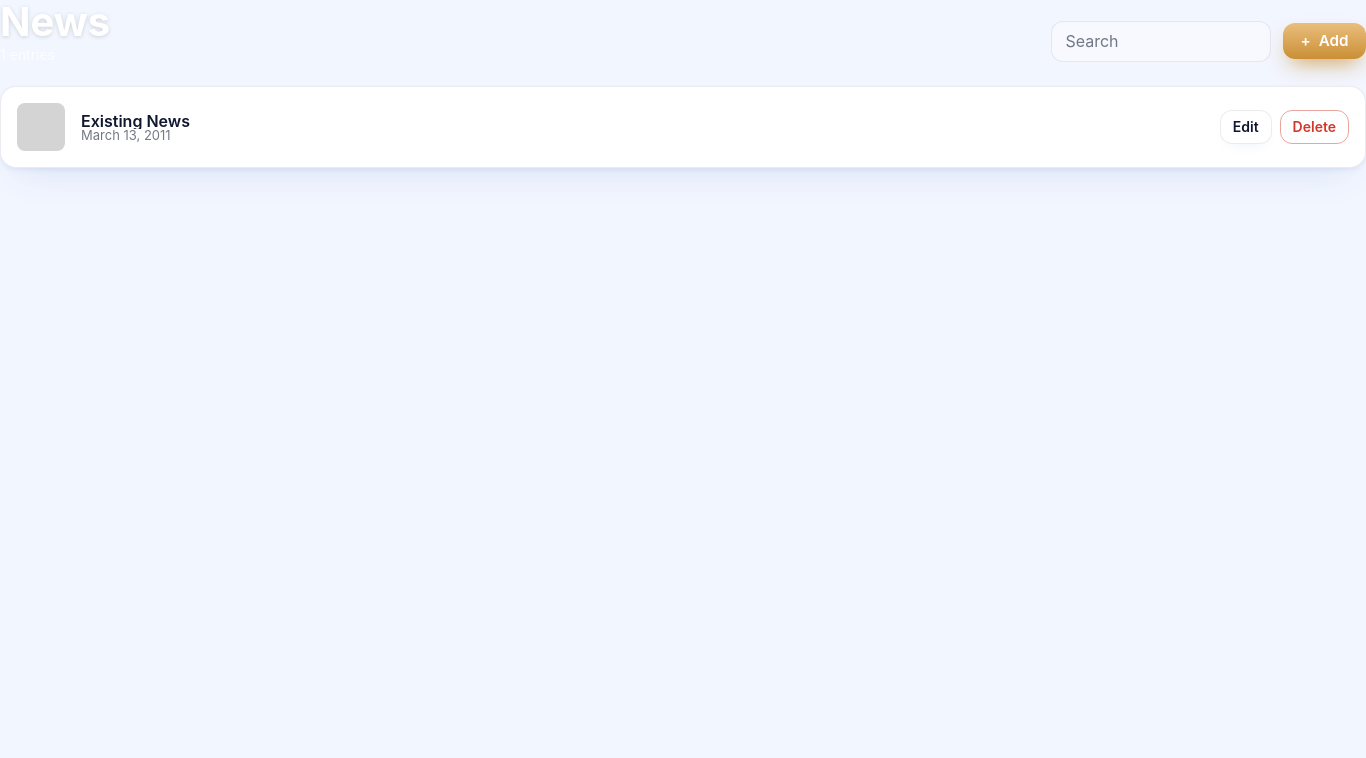
Test case: NewsEditor CRUD contract › surfaces a visible error when a save is rejected
Click the button "+ Add" at (1324, 41), box [1283,24,1365,59]
(page scrolled)
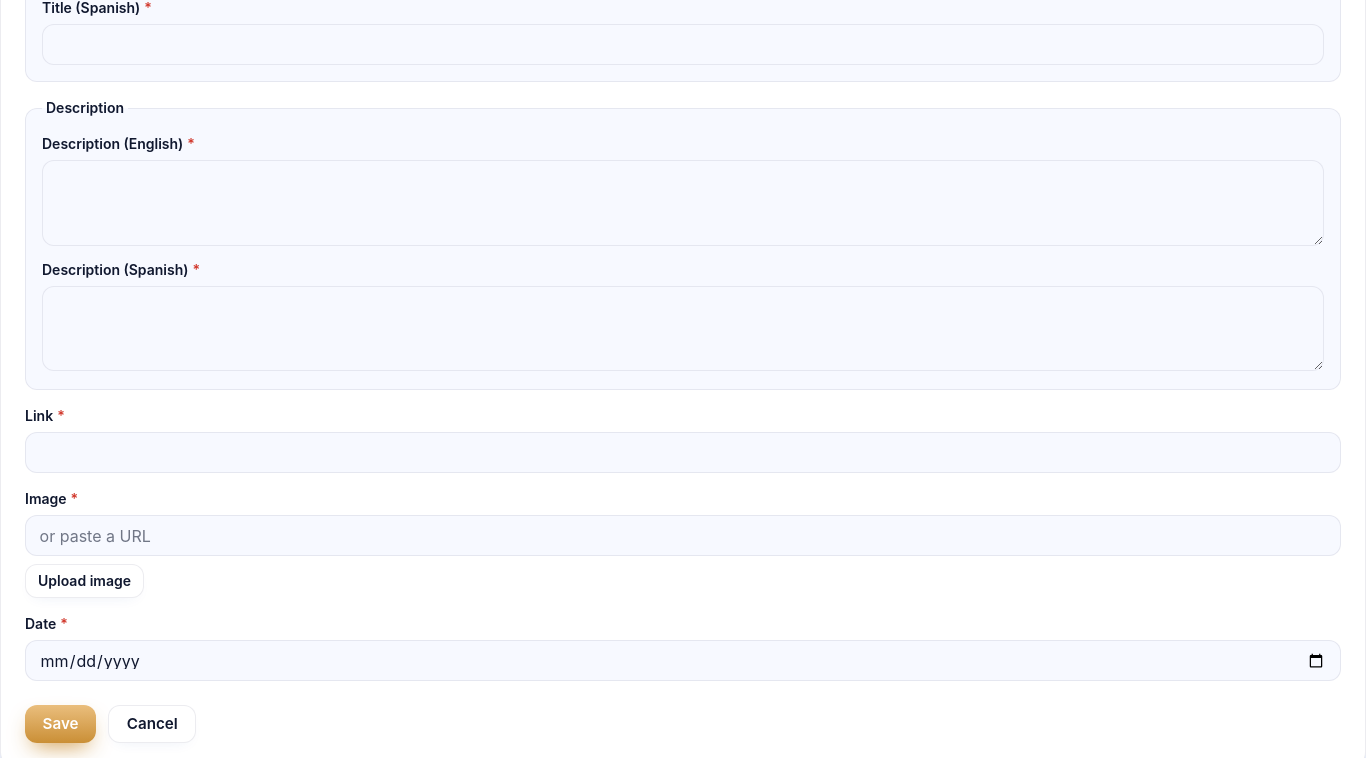
Click the button "Save" at (61, 724), box [25,705,96,743]
(page scrolled)
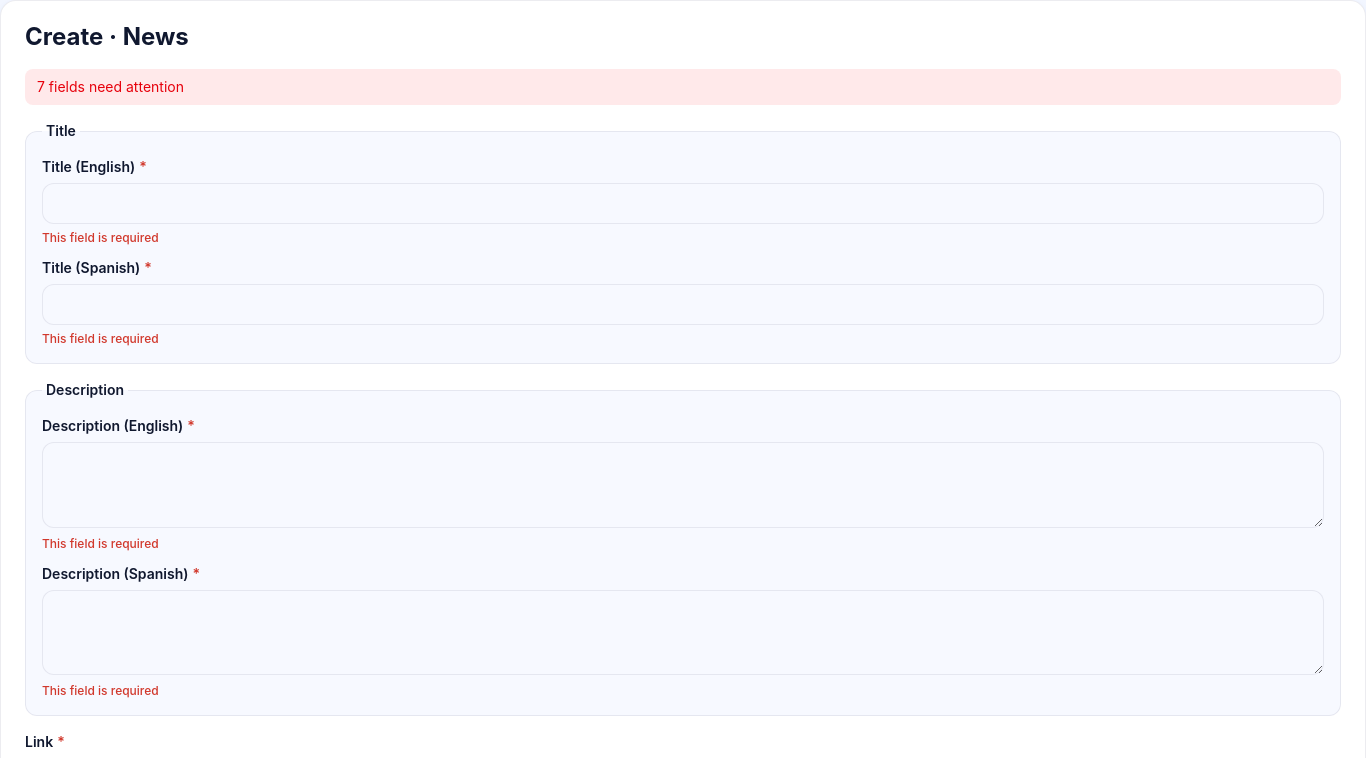
Expected: the message "7 fields need attention" is shown, [25,69,1341,105]
